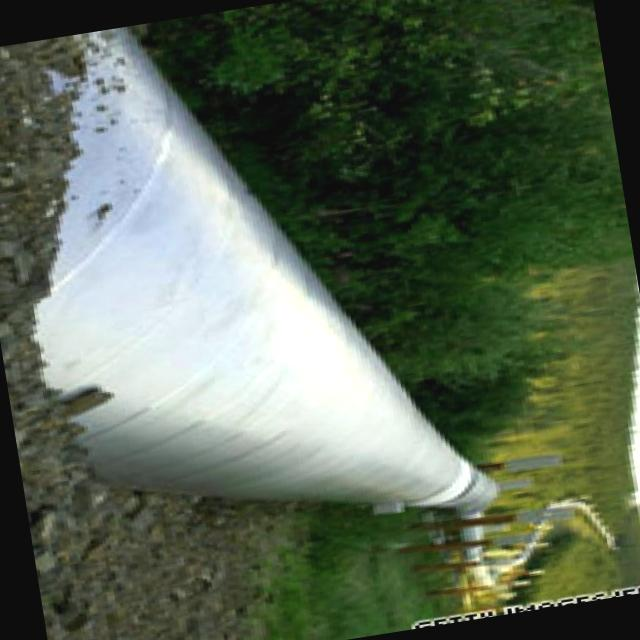gas: (37, 27, 494, 509)
